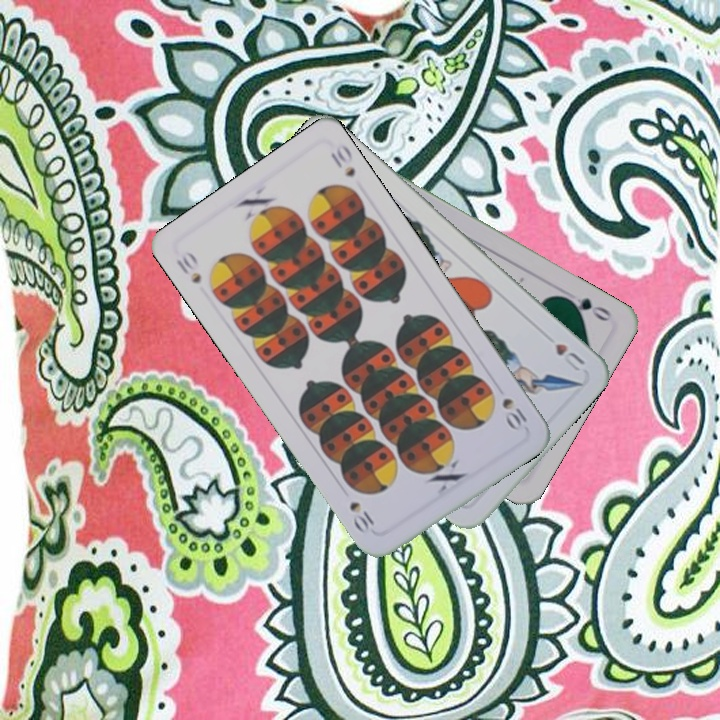GO: (558, 292, 614, 324)
HU: (551, 339, 588, 374)
S10: (498, 393, 530, 434), (172, 247, 204, 287)
